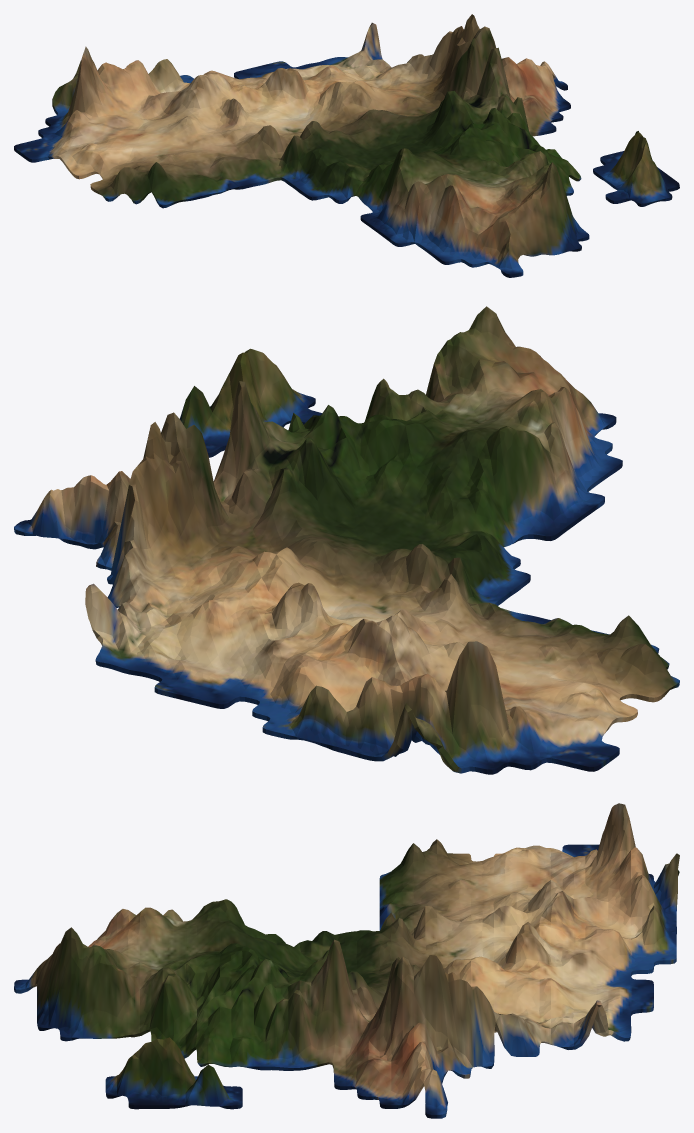
File: AfricaTerrain.glb
3 renders of one model, top to bottom at view 1: azimuth 30°, elevation 25°; view 2: azimuth 150°, elevation 25°; view 3: azimuth 270°, elevation 25°, orthographic. The views are drawn at different scales.
Visible parts, largest first — view 1: 非洲; view 2: 非洲; view 3: 非洲.
Boxes of the visible parts, x1,y1,x2,y2 form: 非洲: (14,14,679,277); 非洲: (14,306,679,774); 非洲: (14,803,679,1118).
Bounding box in the file's own units: 0.9992 × 0.1985 × 1.04.
Materials: 1 (1 with a texture image).
